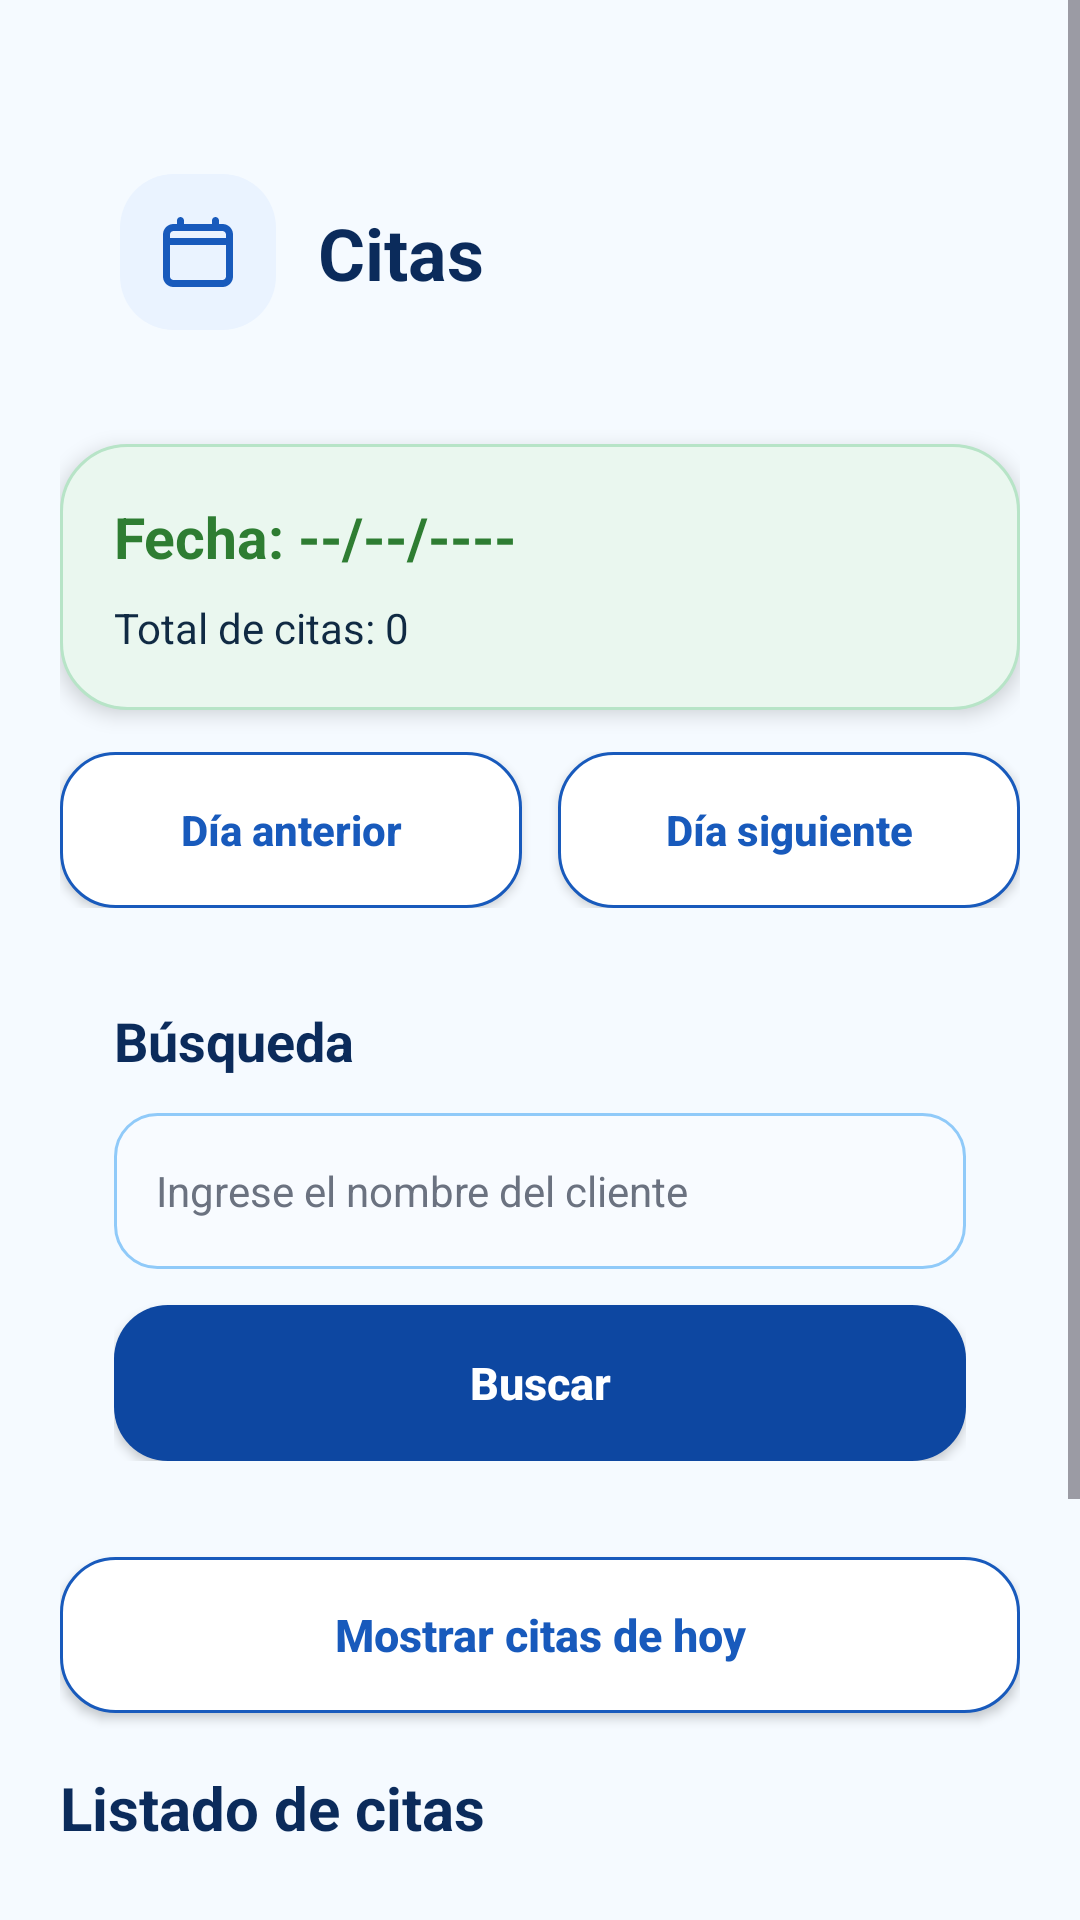

Where icons sit on this 1080 x 1920 app screen, as (x1, y1, x2, y2):
calendar moderno: (120, 174, 276, 330)
